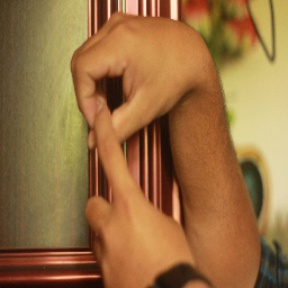Q: (69, 11, 212, 240)
